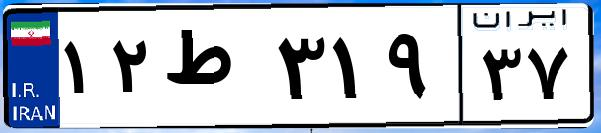1: (330, 28, 385, 110), (57, 26, 110, 100)
2: (110, 28, 158, 98)
3: (270, 28, 330, 110), (475, 38, 525, 113)
7: (525, 38, 570, 115)
9: (385, 28, 445, 110)
ط: (158, 20, 270, 120)
